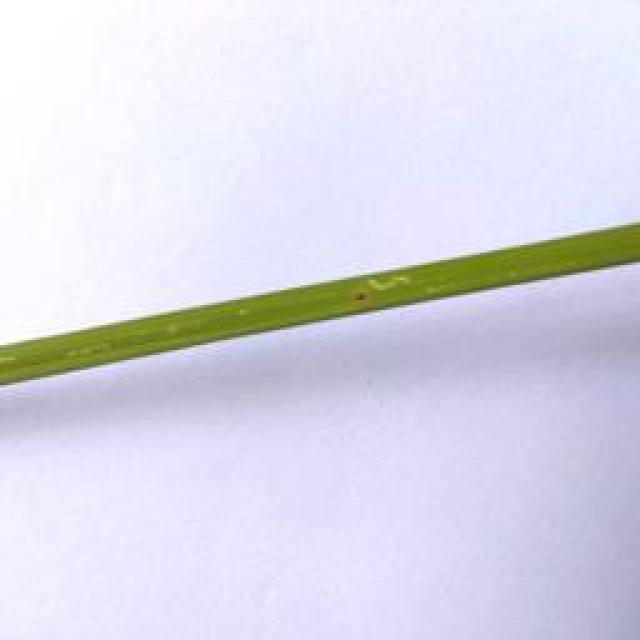Brown_Spot: (352, 292, 379, 307)
